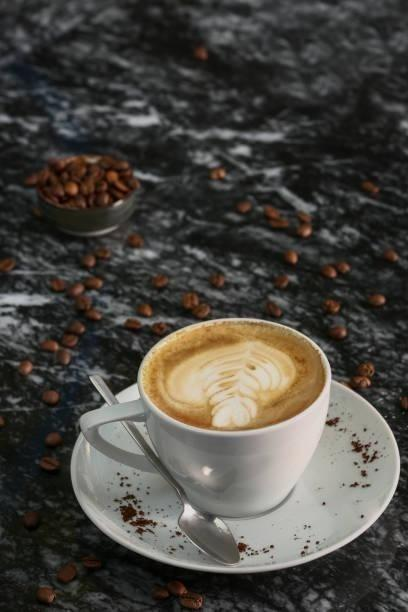cup-handle: (78, 316, 333, 520)
